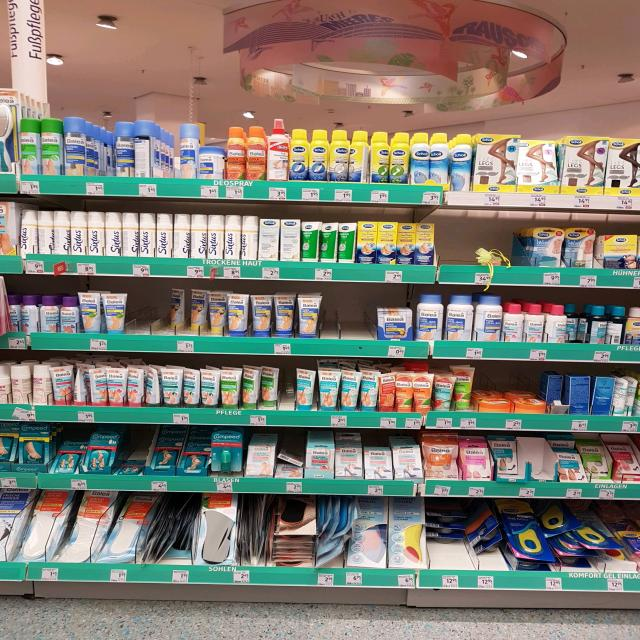void: (329, 287, 373, 338), (128, 282, 166, 338), (437, 218, 473, 267)
